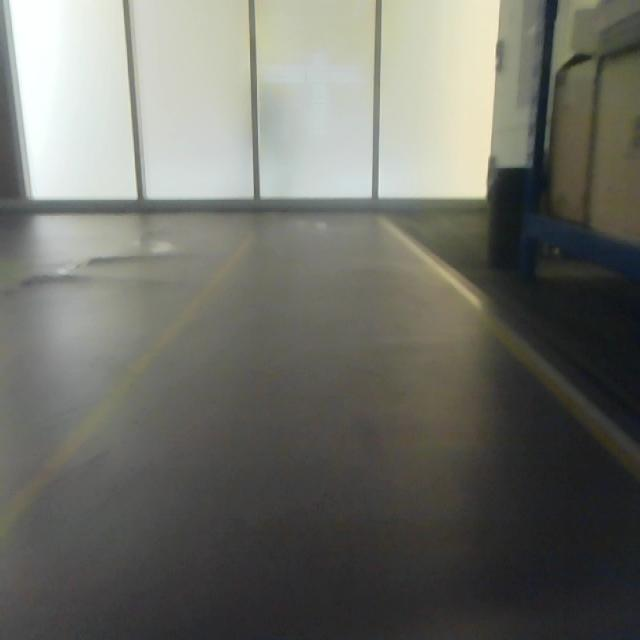left_lane: (0, 233, 253, 544)
right_lane: (378, 217, 640, 486)
